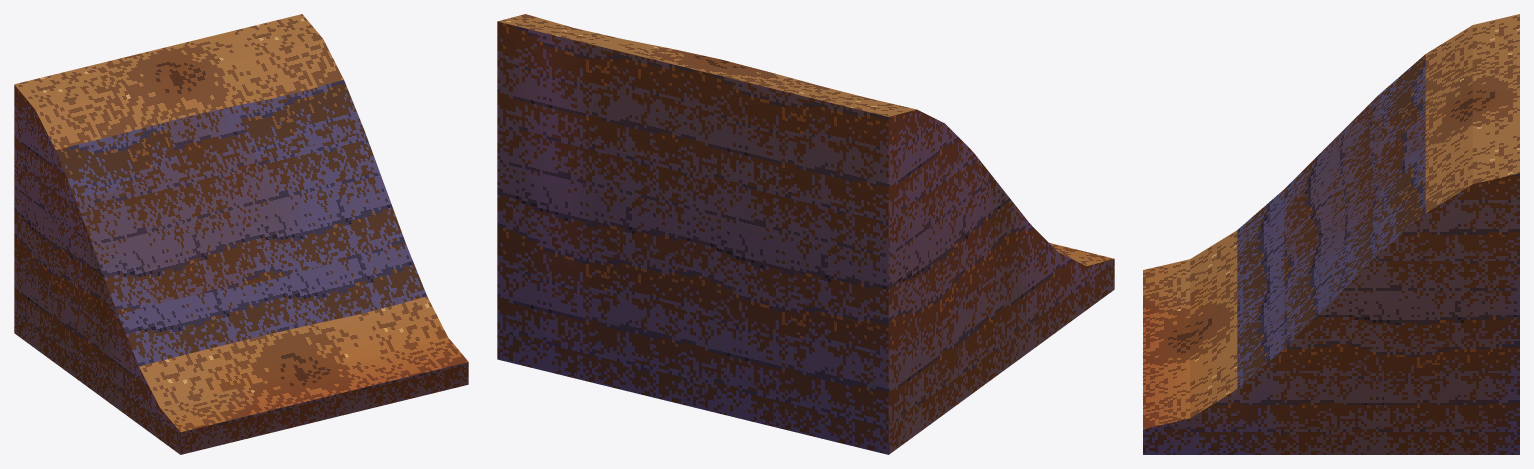
The model's file is planet.rise__steep.glb.
3 renders of one model, left to right at view 1: azimuth 30°, elevation 25°; view 2: azimuth 150°, elevation 25°; view 3: azimuth 270°, elevation 25°, orthographic. The views are drawn at different scales.
Visible parts, largest first — view 1: kit_ground; view 2: kit_ground; view 3: kit_ground.
Boxes of the visible parts, x1,y1,x2,y2 form: kit_ground: [14, 14, 468, 454]; kit_ground: [497, 14, 1114, 454]; kit_ground: [1143, 14, 1519, 454].
Bounding box in the file's own units: 8 × 6.6 × 8.
Materials: 2 (2 with a texture image).
